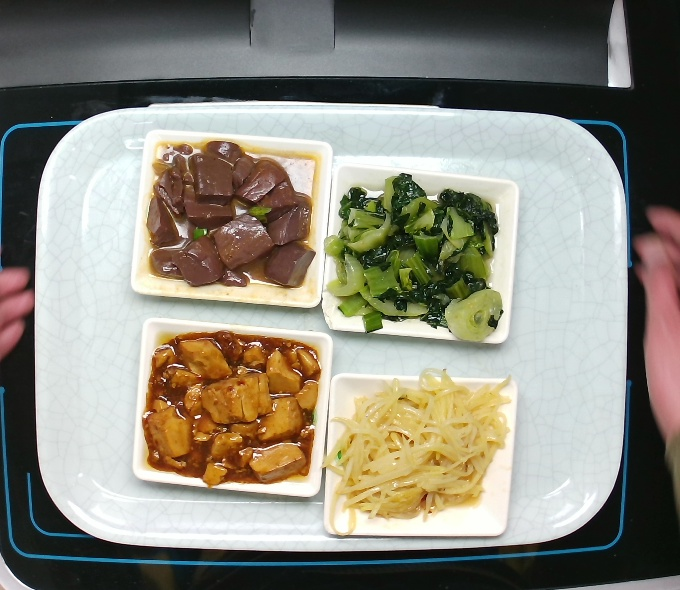wcq-MaPoDouFu: (126, 314, 332, 507)
wcq-NiuXue: (119, 118, 325, 311)
wcq-TuDouSi: (322, 359, 528, 552)
wcq-YouDongCai: (310, 164, 516, 357)
